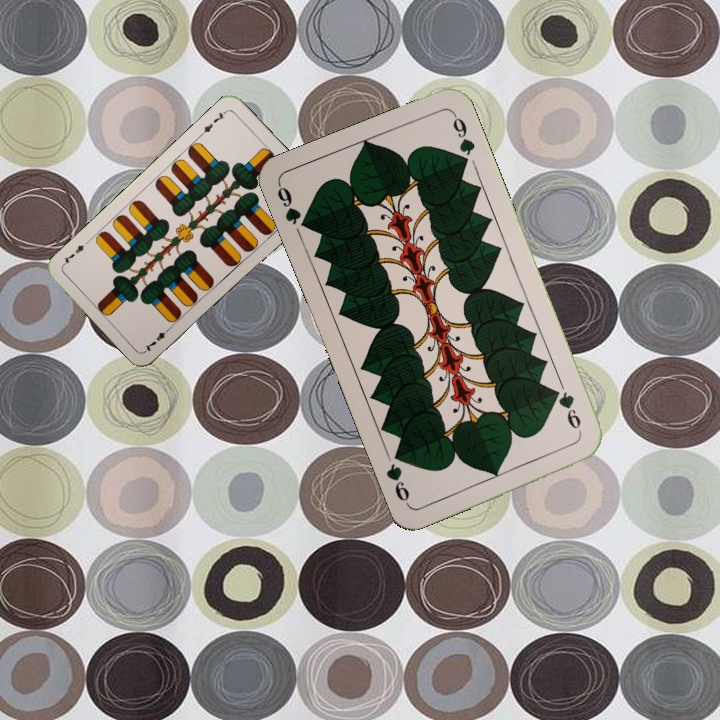E7: (196, 106, 230, 138), (141, 323, 174, 354)
G9: (273, 180, 313, 233), (549, 385, 584, 437)
